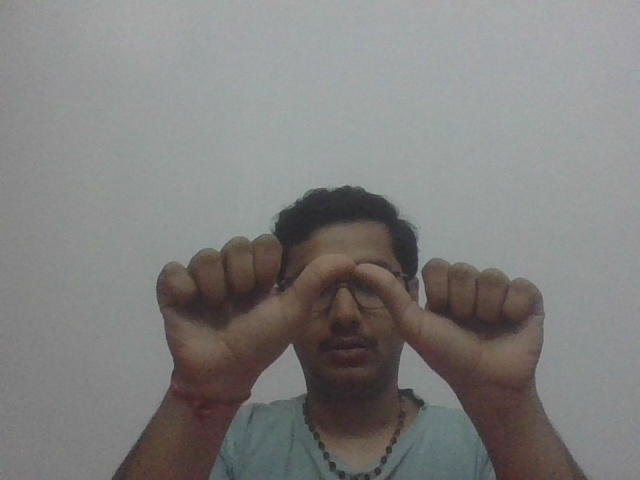A: (143, 238, 557, 390)
